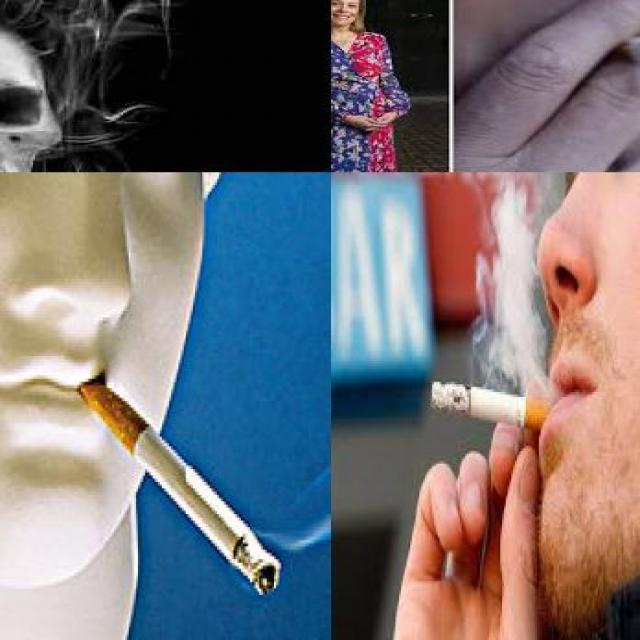smoke: (73, 375, 280, 595), (431, 380, 562, 432), (594, 36, 638, 63)
